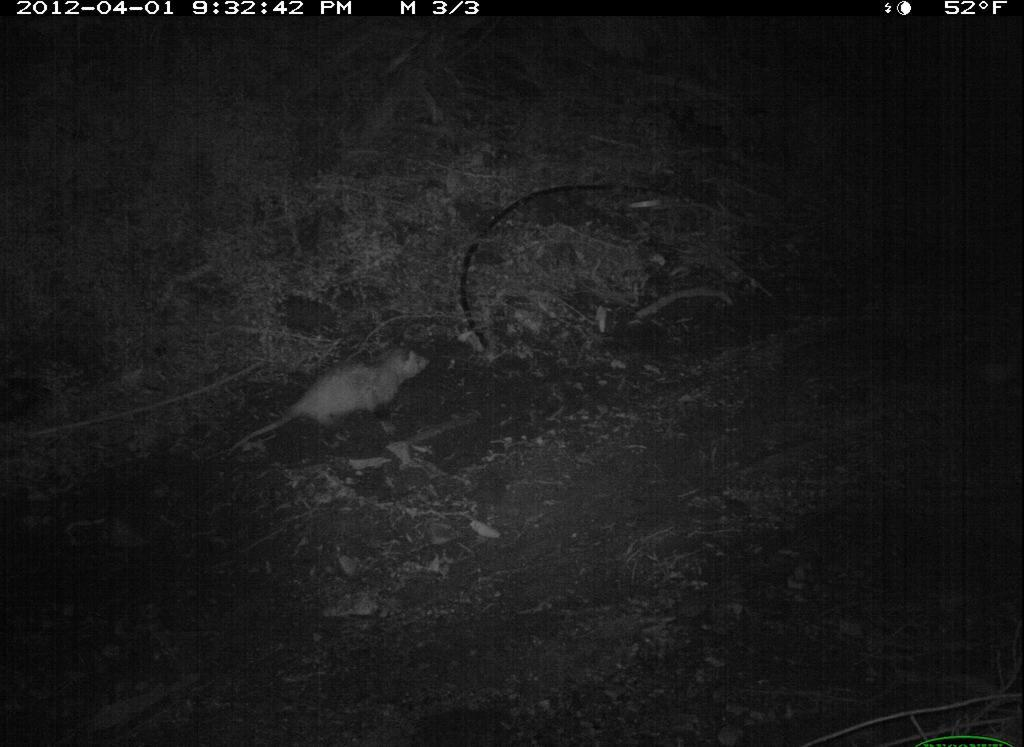opossum: (219, 338, 451, 472)
